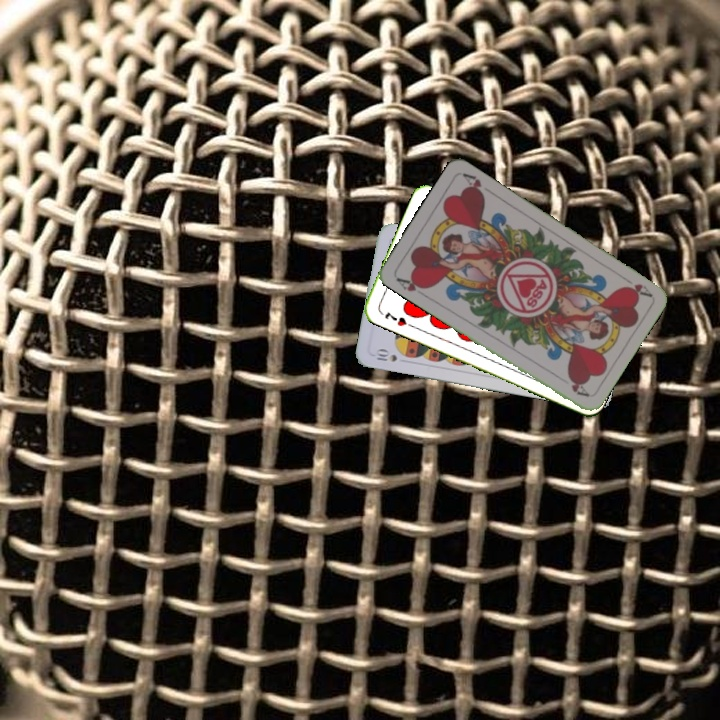H7: (381, 307, 409, 329)
HA: (617, 272, 654, 299), (392, 273, 430, 299)
S10: (372, 346, 399, 364)
